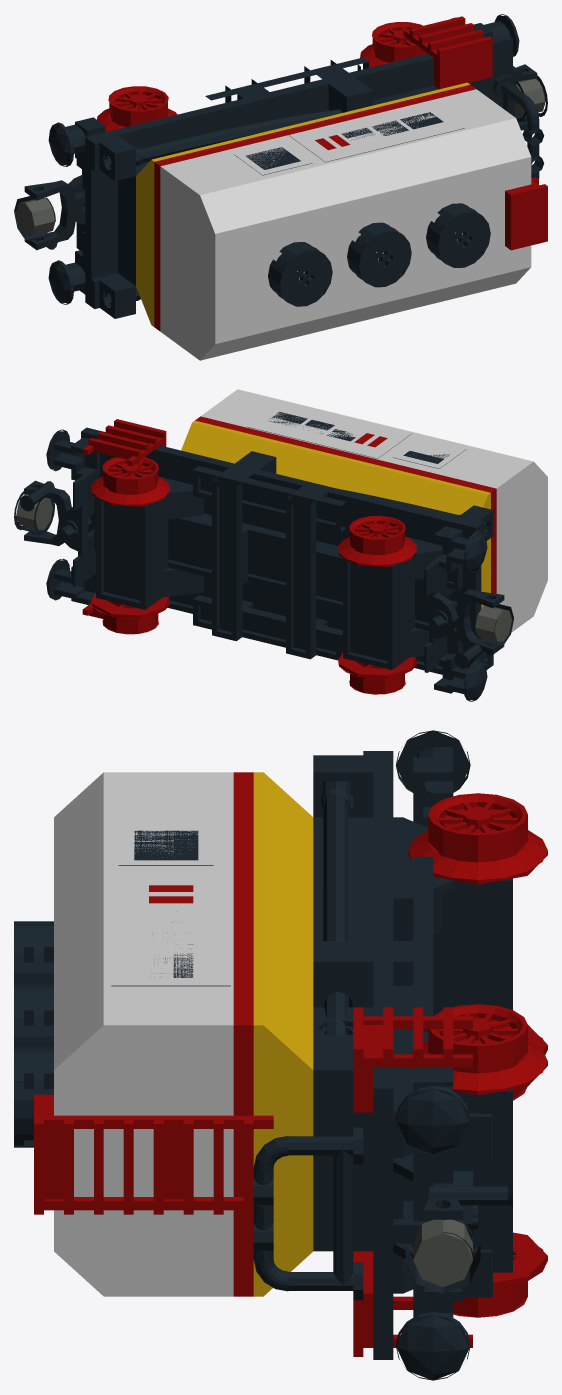
Rendered from shell-tanker-wagon.glb.
3 renders of one model, top to bottom at view 1: azimuth 30°, elevation 25°; view 2: azimuth 150°, elevation 25°; view 3: azimuth 270°, elevation 25°, orthographic. The views are drawn at different scales.
Size of the model in its own units: 155 by 54.4 by 85.6.
